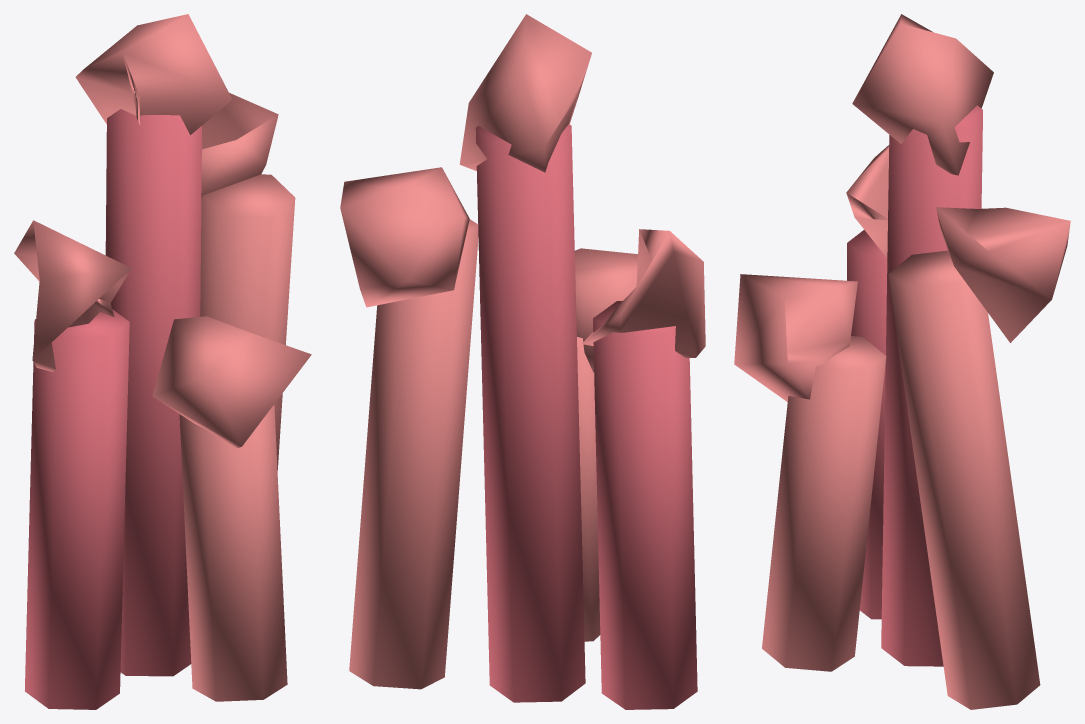
The model's file is hd_coral.gltf.
The picture shows the model from 3 angles, left to right: view 1: azimuth 30°, elevation 25°; view 2: azimuth 150°, elevation 25°; view 3: azimuth 270°, elevation 25°; orthographic projection. The views are drawn at different scales.
Parts seen in each view (by area): view 1: br0, br2, br3, br1, tip3, tip0, tip2, tip1; view 2: br0, br1, br2, tip1, tip0, tip2, br3, tip3; view 3: br1, br3, br0, tip0, tip3, tip1, br2, tip2.
Boxes of the visible parts, left/top/right/bottom form: br0: left=105, top=109, right=201, bottom=676; br2: left=25, top=309, right=129, bottom=709; br3: left=179, top=404, right=287, bottom=701; br1: left=200, top=174, right=295, bottom=470; tip3: left=152, top=316, right=311, bottom=448; tip0: left=75, top=14, right=232, bottom=134; tip2: left=14, top=220, right=131, bottom=371; tip1: left=201, top=92, right=278, bottom=198; br0: left=475, top=124, right=585, bottom=702; br1: left=349, top=219, right=478, bottom=689; br2: left=593, top=301, right=697, bottom=709; tip1: left=340, top=167, right=469, bottom=307; tip0: left=459, top=14, right=591, bottom=172; tip2: left=582, top=229, right=705, bottom=357; br3: left=577, top=337, right=600, bottom=641; tip3: left=574, top=248, right=637, bottom=372; br1: left=888, top=250, right=1040, bottom=709; br3: left=762, top=336, right=886, bottom=671; br0: left=881, top=105, right=982, bottom=666; tip0: left=852, top=14, right=993, bottom=175; tip3: left=734, top=274, right=857, bottom=401; tip1: left=936, top=207, right=1070, bottom=342; br2: left=847, top=230, right=887, bottom=619; tip2: left=846, top=145, right=889, bottom=257.
Size of the model in its own units: 0.5137 by 1.06 by 0.5045.
